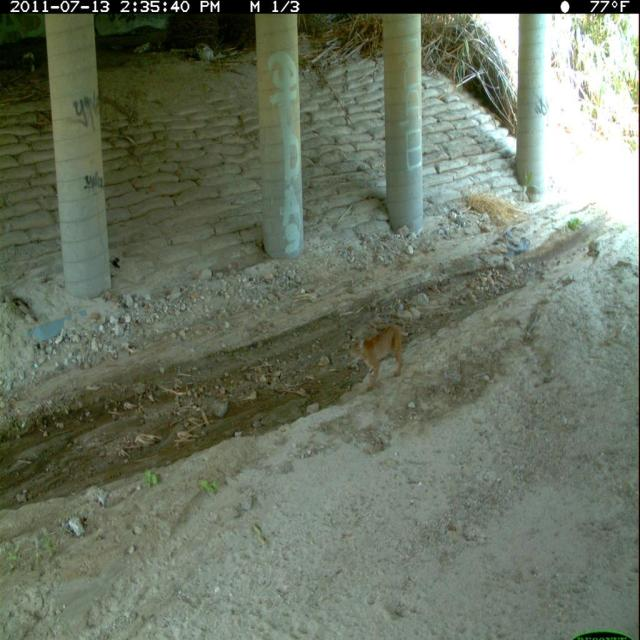bobcat: (346, 319, 414, 398)
